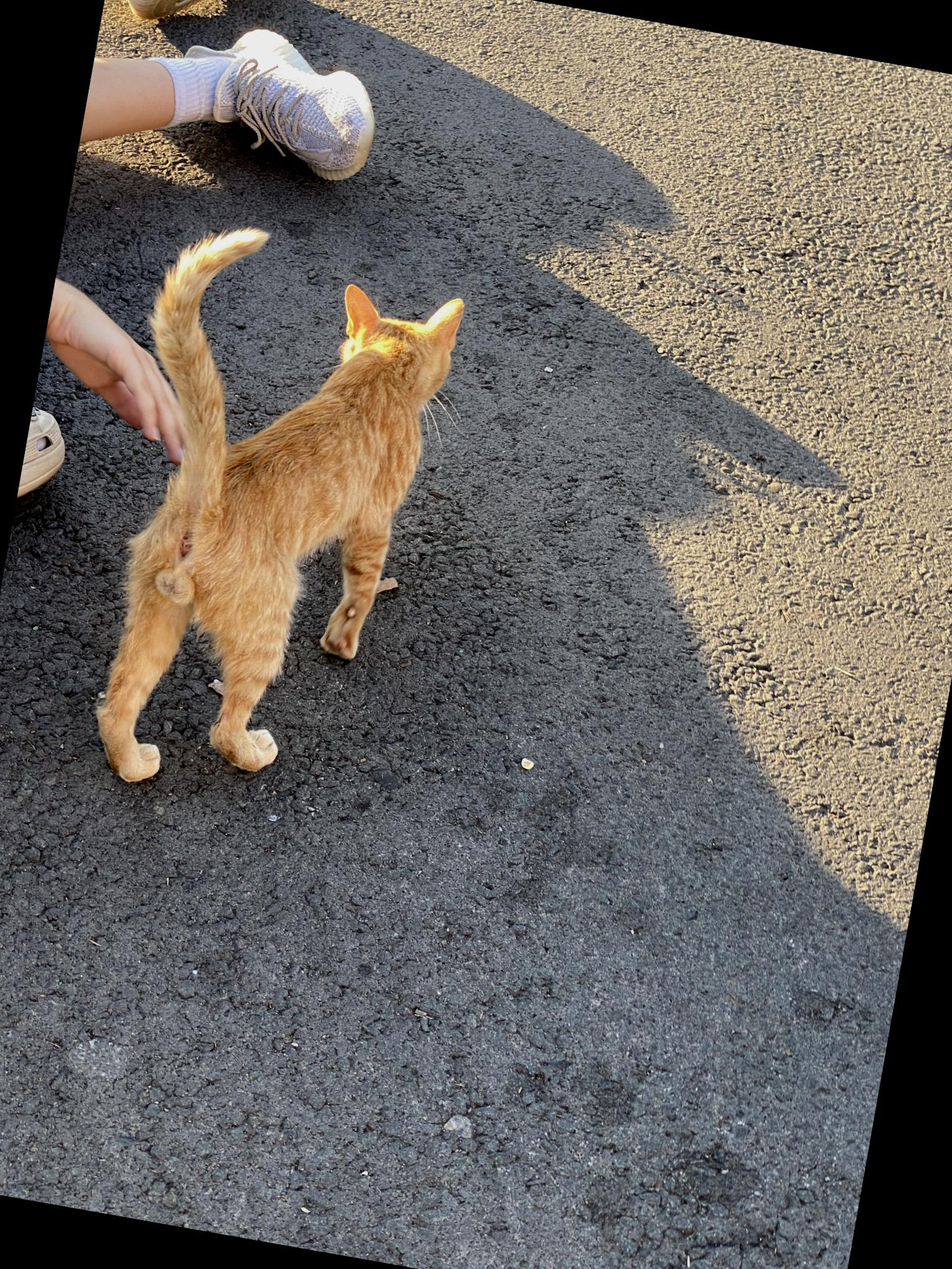macka: (73, 213, 472, 830)
